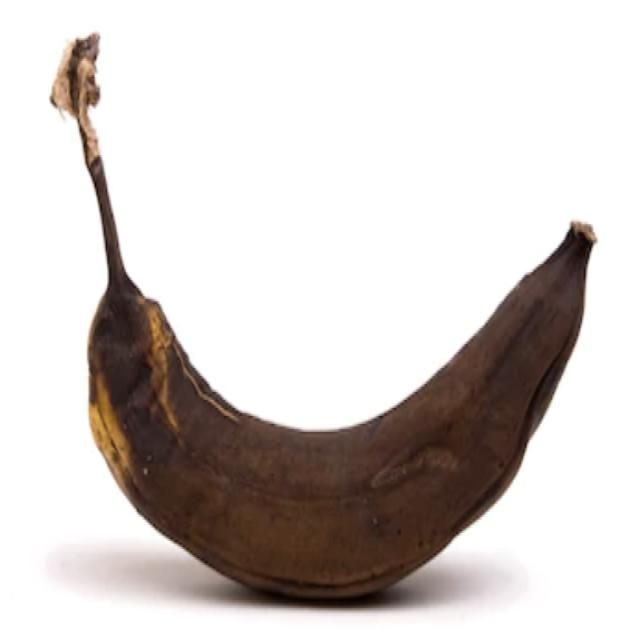Rotten: (41, 36, 607, 613)
